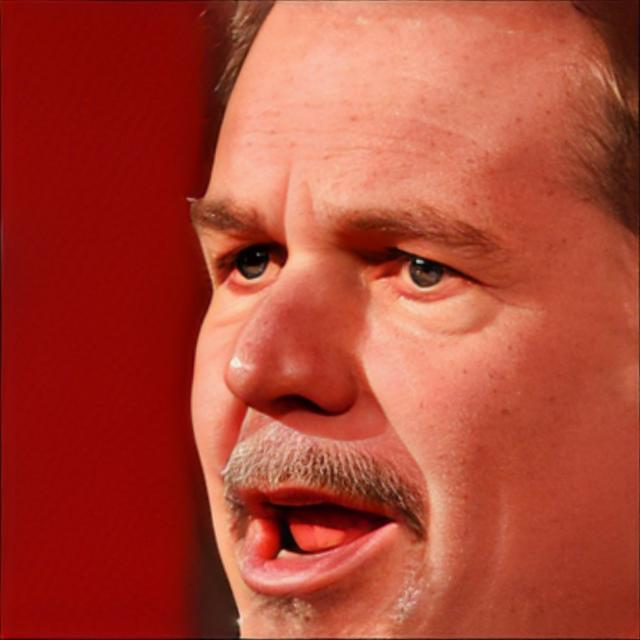anger: (176, 53, 624, 640)
